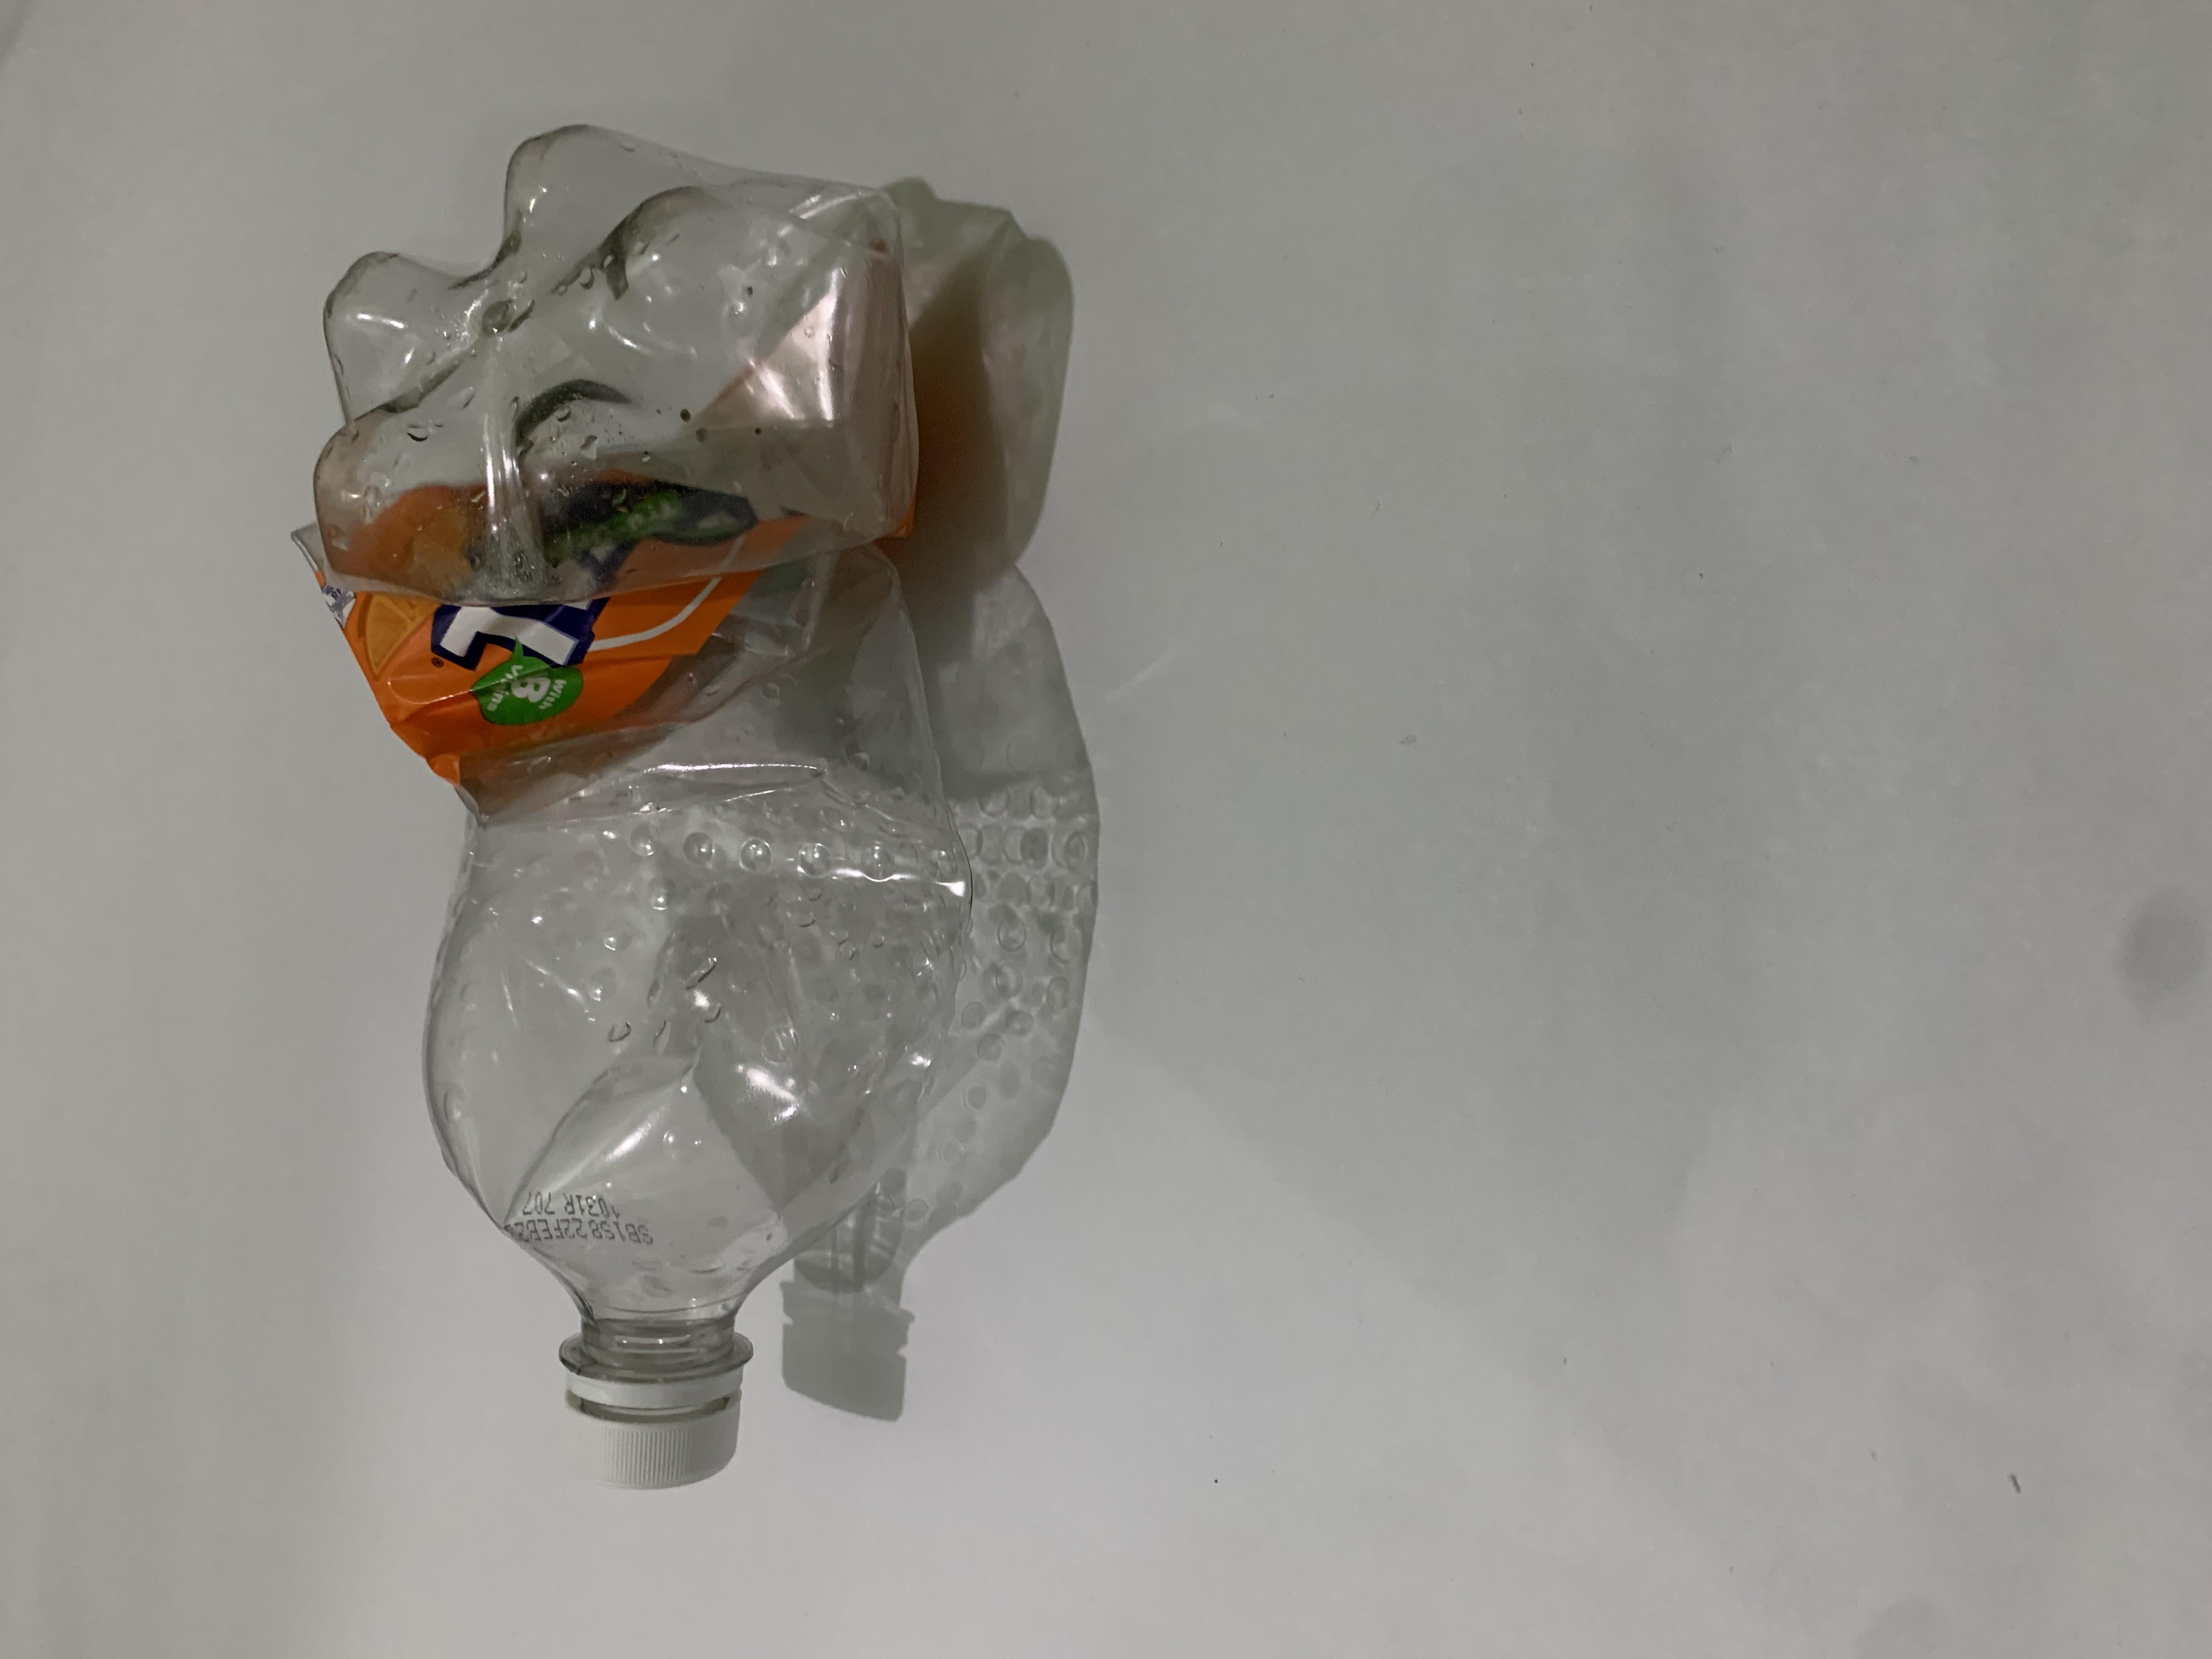bottle: (0, 202, 956, 741)
